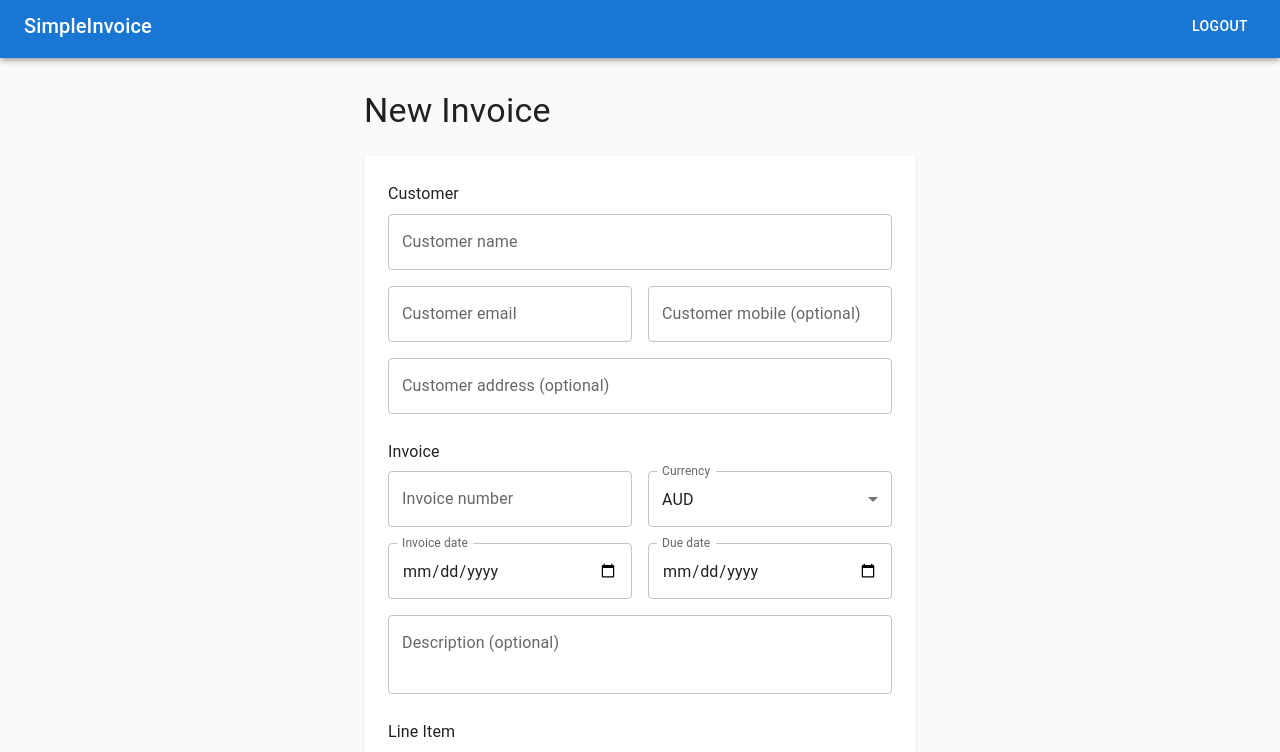
CreateInvoicePage › surfaces a server-side error (e.g. duplicate invoice number) without crashing
Type "Jane Doe" into the field labelled "Customer name" at point(640, 242), box [388,214,892,270]
Type "jane@example.com" into the field labelled "Customer email" at point(510, 314), box [388,286,632,342]
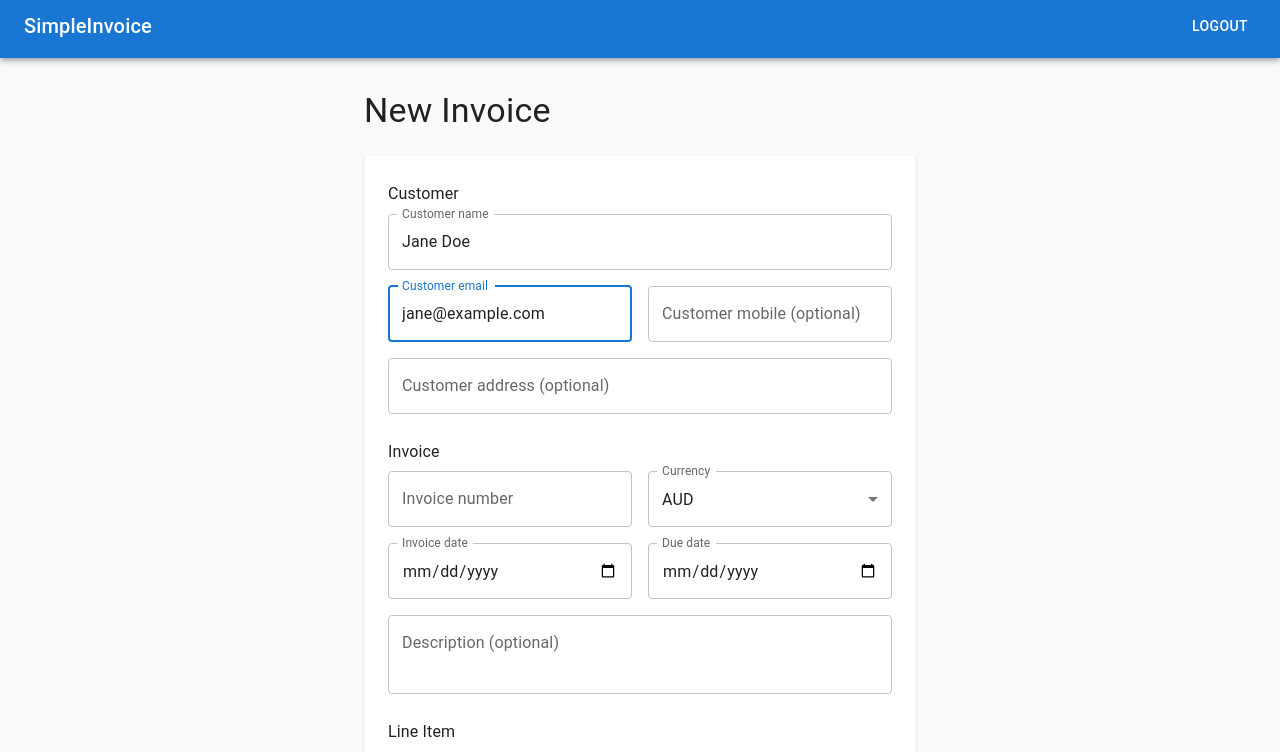
Type "IV-DUP" into the field labelled "Invoice number" at point(510, 499), box [388,471,632,527]
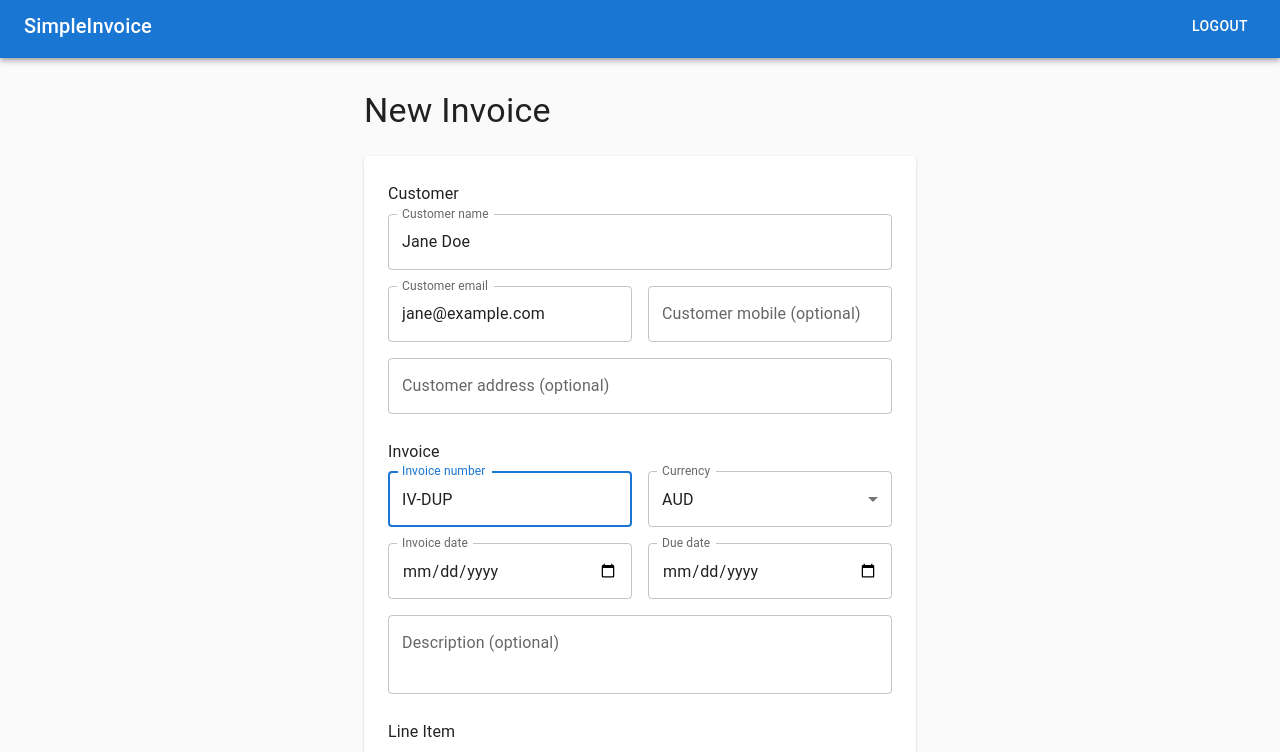
Type "2026-06-01" into the date field labelled "Invoice date" at point(510, 571), box [388,543,632,599]
Type "2026-07-01" into the date field labelled "Due date" at point(770, 571), box [648,543,892,599]
(page scrolled)
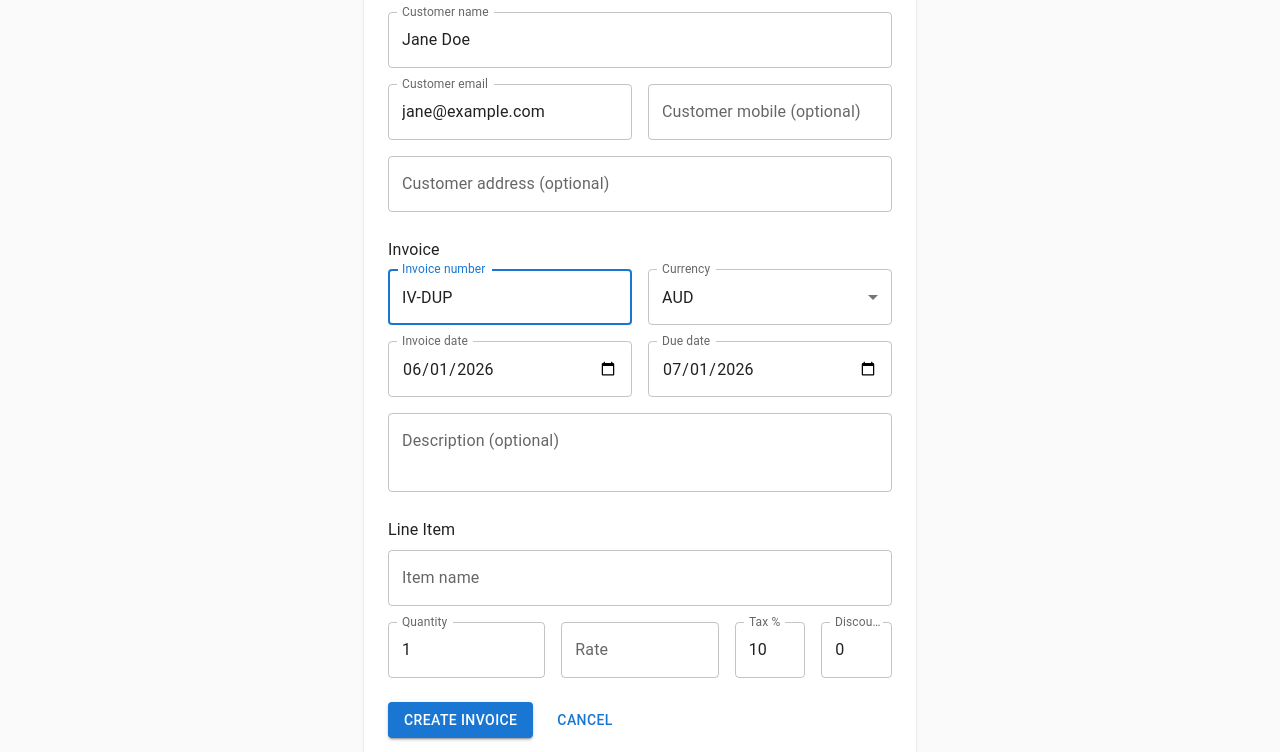
Type "Widget" into the field labelled "Item name" at point(640, 578), box [388,550,892,606]
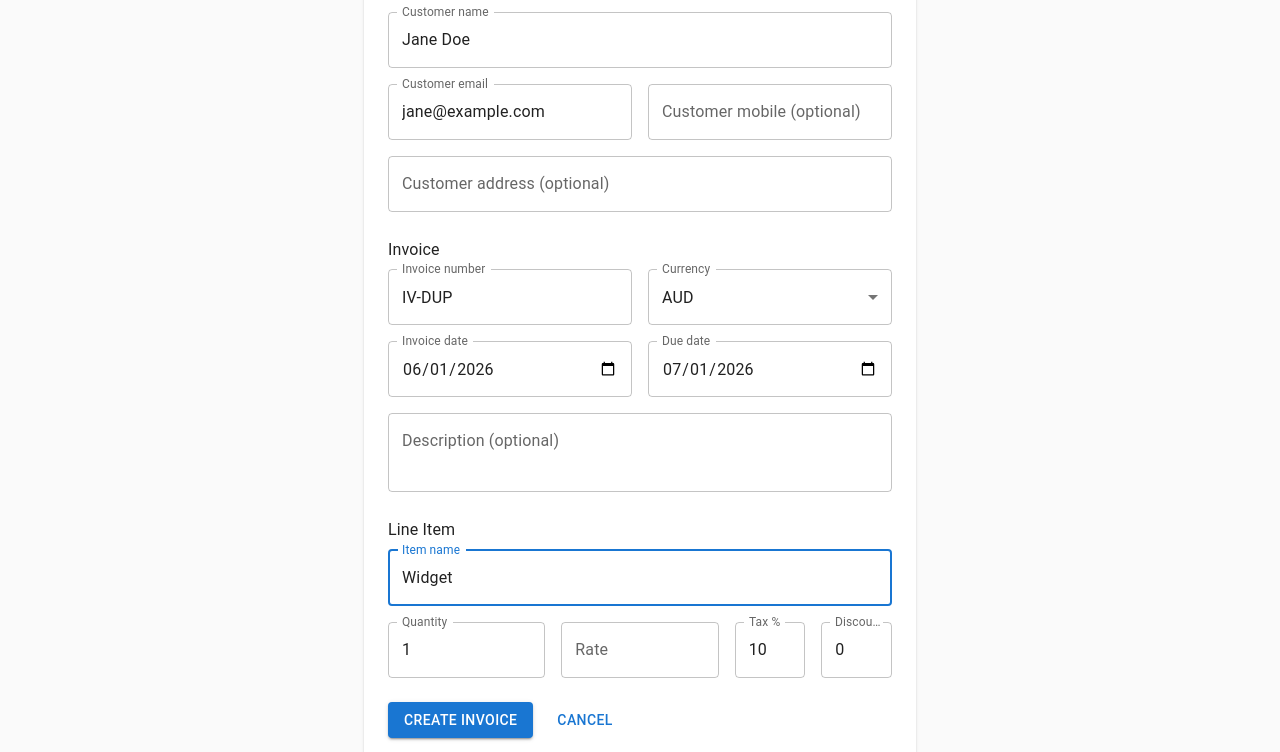
Type "50" into the number field labelled "Rate" at point(640, 650), box [561,622,719,678]
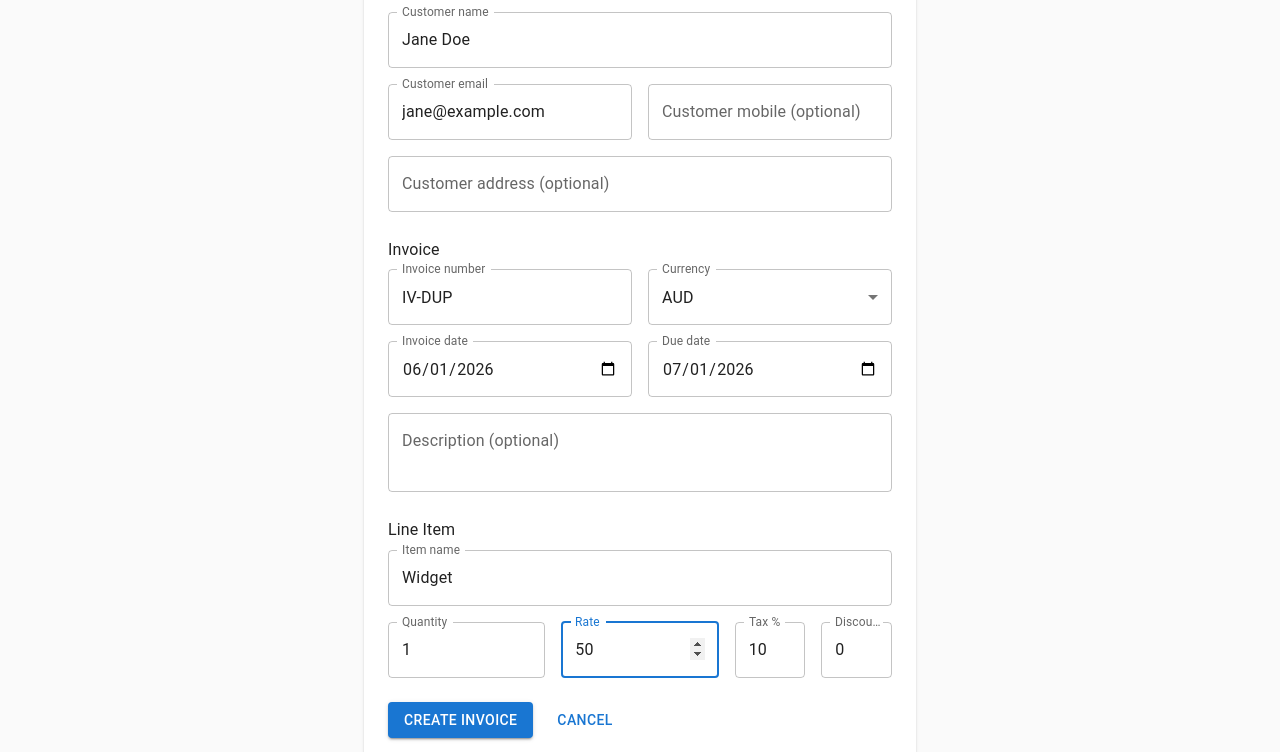
Click the button "Create Invoice" at point(461, 720), box [388,702,533,738]
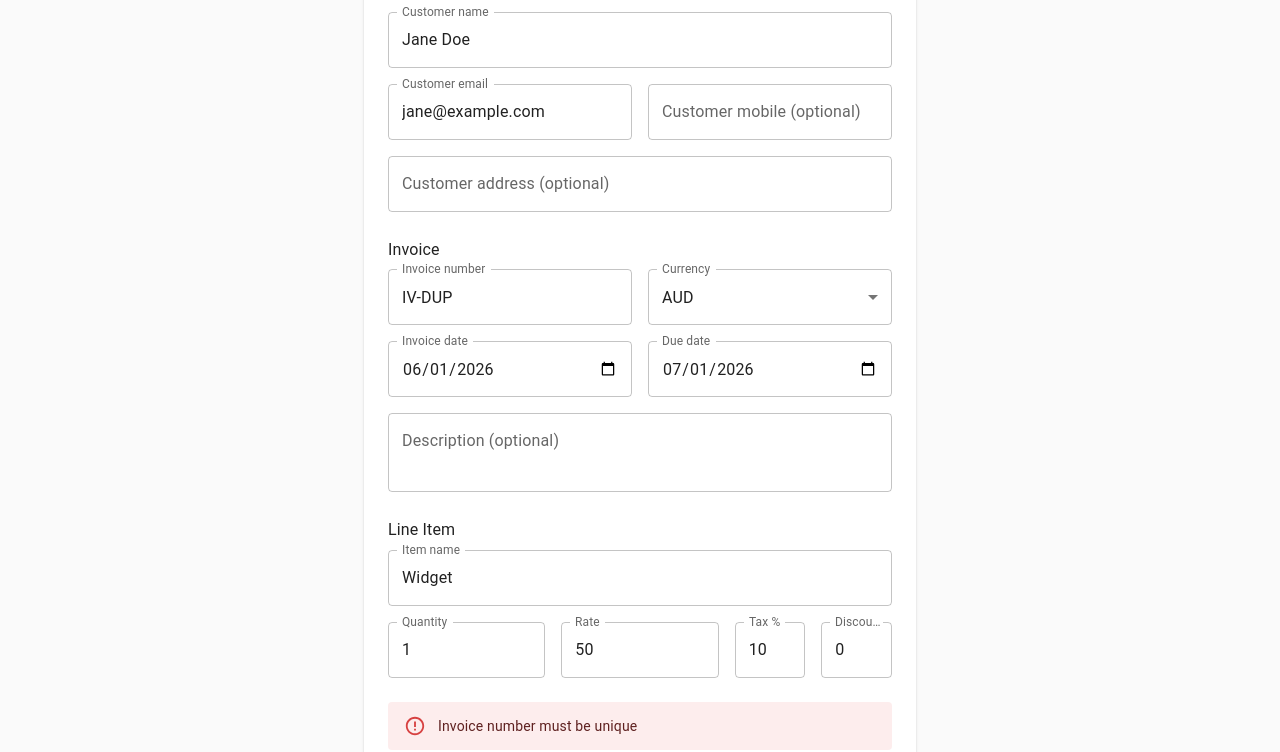
Expected: the text "Invoice number must be unique" is shown, [438,718,637,734]
